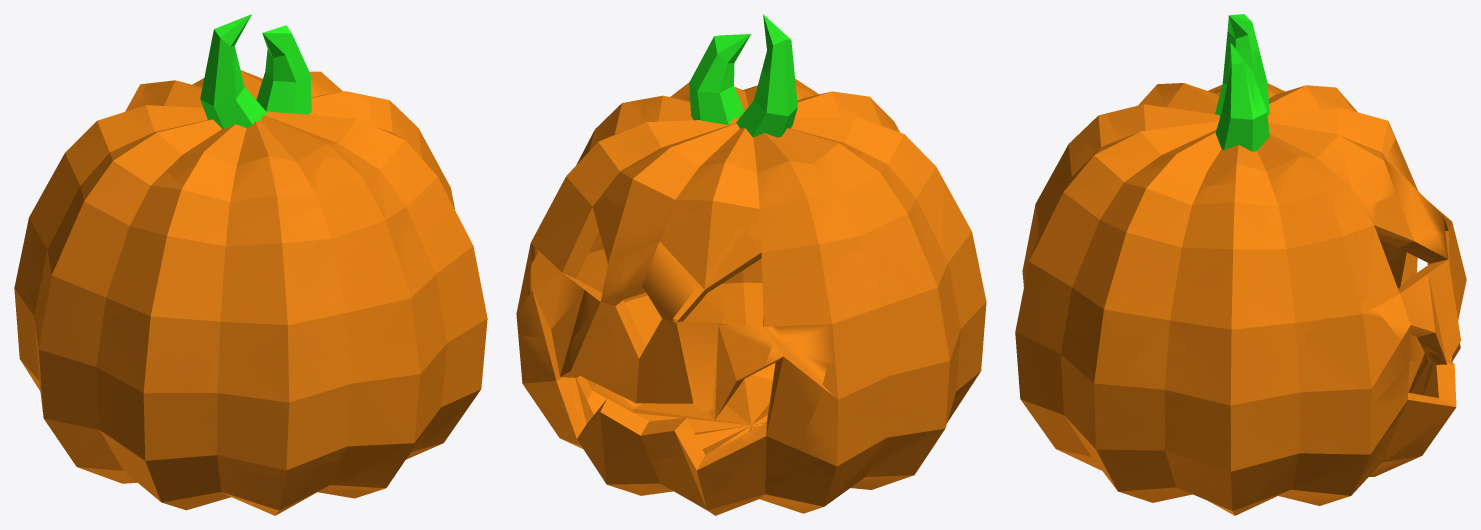
File: Abobora_05_Root.fbx
3 renders of one model, left to right at view 1: azimuth 30°, elevation 25°; view 2: azimuth 150°, elevation 25°; view 3: azimuth 270°, elevation 25°, orthographic. The views are drawn at different scales.
Visible parts, largest first — view 1: Abobora_05_frag_015, Abobora_05_frag_044, Abobora_05_frag_022, Abobora_05_frag_083, Abobora_05_frag_009, Abobora_05_frag_039, Abobora_05_frag_033, Abobora_05_frag_040, Abobora_05_frag_017, Abobora_05_frag_051, Abobora_05_frag_084, Abobora_05_frag_059 (+20 smaller); view 2: Abobora_05_frag_028, Abobora_05_frag_057, Abobora_05_frag_068, Abobora_05_frag_044, Abobora_05_frag_052, Abobora_05_frag_045, Abobora_05_frag_005, Abobora_05_frag_034, Abobora_05_frag_079, Abobora_05_frag_009, Abobora_05_frag_050, Abobora_05_frag_030 (+36 smaller); view 3: Abobora_05_frag_036, Abobora_05_frag_050, Abobora_05_frag_017, Abobora_05_frag_016, Abobora_05_frag_043, Abobora_05_frag_064, Abobora_05_frag_046, Abobora_05_frag_059, Abobora_05_frag_060, Abobora_05_frag_025, Abobora_05_frag_034, Abobora_05_frag_037 (+29 smaller).
Boxes of the visible parts, x1,y1,x2,y2 form: Abobora_05_frag_015: (66, 307, 215, 441); Abobora_05_frag_044: (49, 155, 215, 306); Abobora_05_frag_022: (202, 216, 335, 366); Abobora_05_frag_083: (193, 350, 322, 481); Abobora_05_frag_009: (154, 119, 324, 233); Abobora_05_frag_039: (319, 324, 428, 464); Abobora_05_frag_033: (265, 206, 395, 349); Abobora_05_frag_040: (54, 227, 228, 323); Abobora_05_frag_017: (326, 127, 449, 232); Abobora_05_frag_051: (102, 405, 225, 510); Abobora_05_frag_084: (38, 312, 137, 483); Abobora_05_frag_059: (392, 228, 470, 353); Abobora_05_frag_028: (775, 246, 944, 366); Abobora_05_frag_057: (736, 138, 884, 261); Abobora_05_frag_068: (601, 203, 737, 337); Abobora_05_frag_044: (858, 132, 945, 311); Abobora_05_frag_052: (653, 319, 774, 412); Abobora_05_frag_045: (838, 339, 947, 483); Abobora_05_frag_005: (804, 364, 896, 480); Abobora_05_frag_034: (528, 224, 602, 359); Abobora_05_frag_079: (618, 131, 741, 214); Abobora_05_frag_009: (748, 86, 899, 154); Abobora_05_frag_050: (552, 123, 644, 239); Abobora_05_frag_030: (643, 104, 796, 177); Abobora_05_frag_036: (1116, 291, 1299, 452); Abobora_05_frag_050: (1250, 158, 1379, 337); Abobora_05_frag_017: (1064, 136, 1177, 273); Abobora_05_frag_016: (1160, 183, 1267, 291); Abobora_05_frag_043: (1110, 417, 1266, 515); Abobora_05_frag_064: (1024, 321, 1122, 432); Abobora_05_frag_046: (1232, 338, 1366, 446); Abobora_05_frag_059: (1020, 206, 1097, 338); Abobora_05_frag_060: (1300, 297, 1408, 410); Abobora_05_frag_025: (1105, 260, 1202, 376); Abobora_05_frag_034: (1364, 246, 1447, 365); Abobora_05_frag_037: (1152, 132, 1299, 187).
Size of the model in its own units: 31.37 by 32.36 by 30.24.
